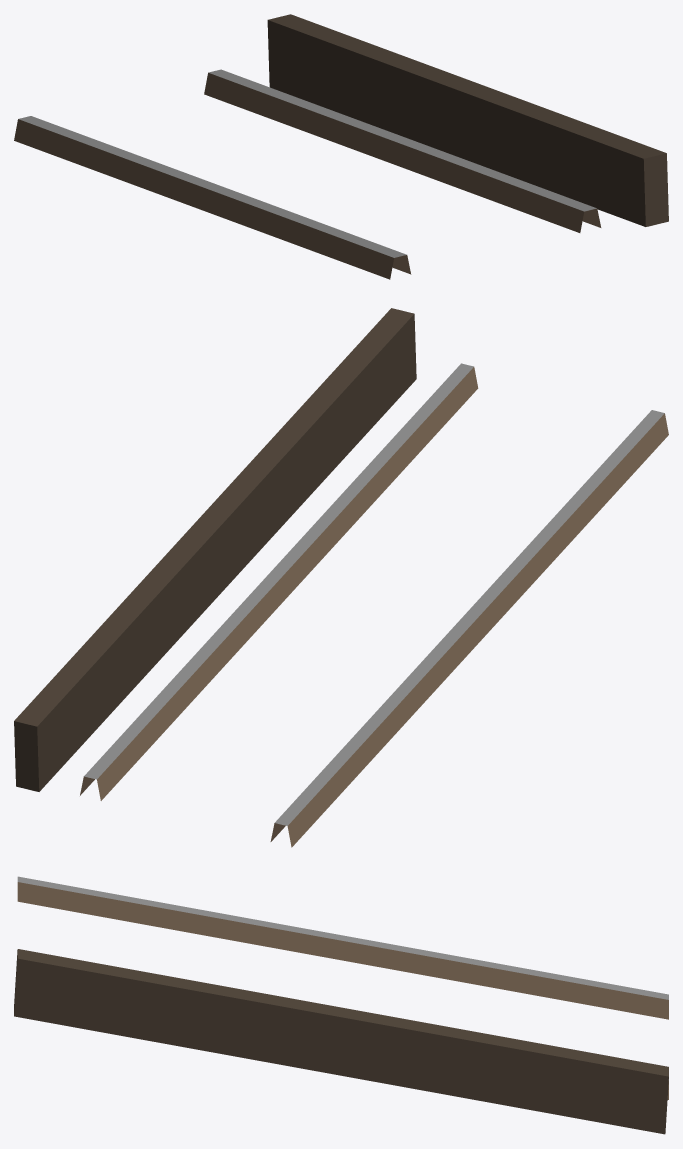
Rendered from SW_ENV_TrackRise_5m_Collision.fbx.
The picture shows the model from 3 angles, top to bottom: view 1: azimuth 30°, elevation 25°; view 2: azimuth 150°, elevation 25°; view 3: azimuth 270°, elevation 25°; orthographic projection. The views are drawn at different scales.
Parts seen in each view (by area): view 1: SW_ENV_TrackRise_5m_Collision; view 2: SW_ENV_TrackRise_5m_Collision; view 3: SW_ENV_TrackRise_5m_Collision.
Part boxes in pixels (left/top/right/bottom): SW_ENV_TrackRise_5m_Collision: left=14, top=14, right=668, bottom=279; SW_ENV_TrackRise_5m_Collision: left=14, top=308, right=668, bottom=847; SW_ENV_TrackRise_5m_Collision: left=14, top=876, right=668, bottom=1134.
Bounding box in the file's own units: 212 × 149 × 503.
